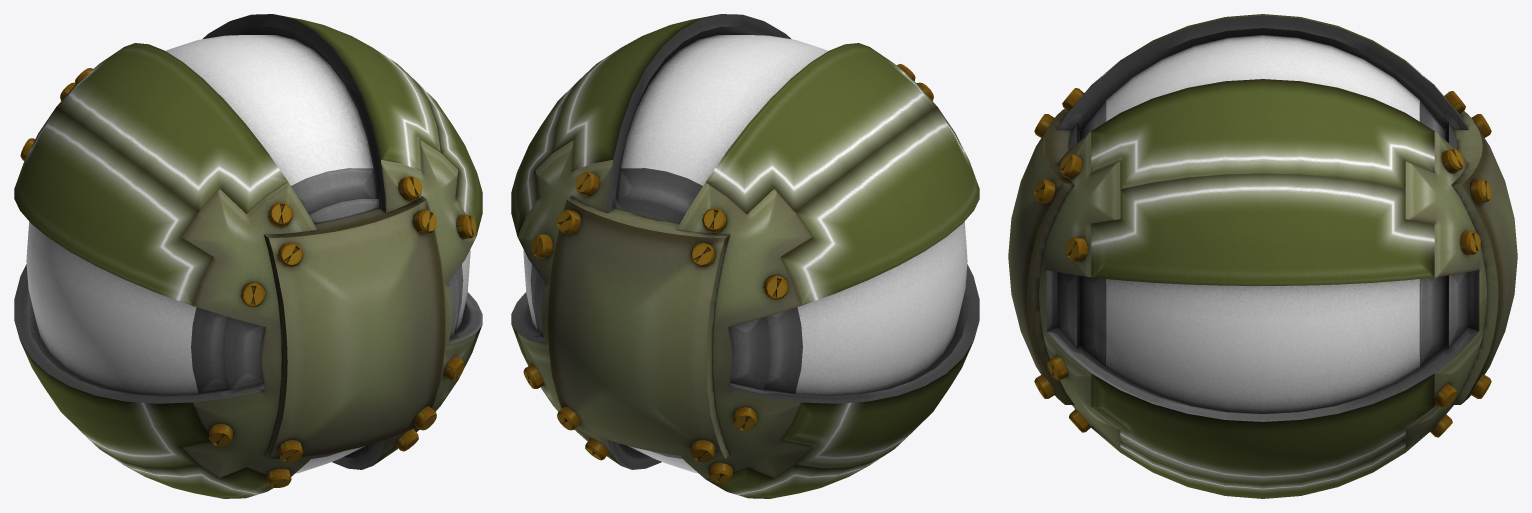
The model's file is BallCombined.fbx.
3 views of the same model, side by side, from view 1: azimuth 30°, elevation 25°; view 2: azimuth 150°, elevation 25°; view 3: azimuth 270°, elevation 25° (orthographic).
Visible parts, largest first — view 1: Body; view 2: Body; view 3: Body.
Part boxes in pixels (x1,y1,x2,y2): Body: (14,14,482,498); Body: (511,14,979,498); Body: (1008,14,1517,498).
Size of the model in its own units: 0.9511 by 0.9511 by 1.05.
1 material, 1 textured.
